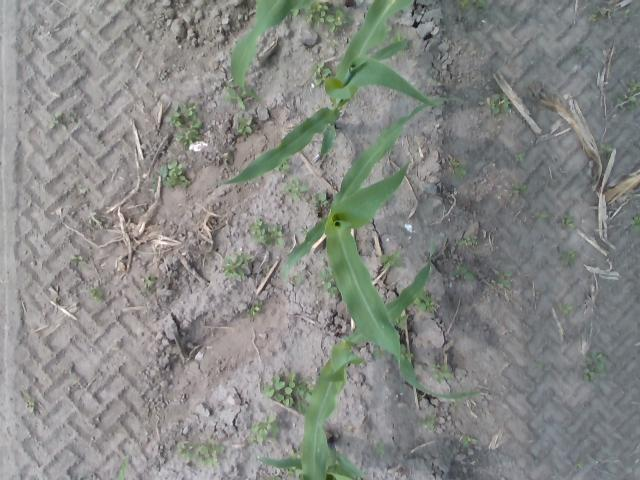Maize: (284, 96, 484, 400), (212, 1, 442, 186), (300, 232, 434, 480), (232, 0, 298, 102), (256, 431, 365, 480)
Weeds: (262, 372, 296, 406), (610, 78, 640, 112), (247, 412, 279, 443), (174, 120, 203, 150), (194, 439, 225, 467), (309, 62, 332, 86), (582, 350, 606, 372), (486, 94, 511, 115), (283, 180, 308, 201), (222, 87, 245, 109), (222, 256, 244, 278), (164, 105, 184, 126), (382, 250, 404, 269), (306, 5, 328, 24), (176, 440, 193, 464), (432, 364, 452, 384), (414, 292, 434, 312), (299, 375, 310, 410), (326, 9, 342, 33), (49, 111, 67, 132), (236, 116, 253, 136), (162, 176, 190, 188), (117, 455, 130, 480), (234, 248, 253, 265), (268, 225, 284, 245), (416, 413, 435, 428), (453, 268, 474, 280), (250, 220, 266, 235), (184, 103, 198, 120), (499, 270, 512, 288), (294, 384, 307, 401), (322, 268, 332, 290), (561, 249, 573, 266), (90, 286, 104, 300), (168, 161, 182, 175), (401, 344, 413, 360), (311, 194, 326, 206), (89, 212, 102, 225), (142, 276, 156, 288), (26, 397, 37, 412), (328, 286, 338, 302), (254, 235, 269, 245), (534, 211, 546, 223), (584, 368, 596, 380), (510, 184, 520, 198), (474, 0, 488, 10), (562, 214, 573, 226), (292, 274, 303, 286), (631, 216, 640, 230), (454, 166, 466, 176), (224, 150, 234, 162), (560, 303, 572, 313), (160, 164, 168, 178), (600, 144, 612, 153), (70, 255, 82, 264), (297, 226, 309, 235), (464, 435, 476, 444), (398, 315, 407, 327), (458, 238, 471, 246), (376, 444, 386, 454), (250, 305, 258, 317), (67, 114, 75, 126), (569, 250, 578, 260), (152, 177, 158, 192), (458, 0, 469, 8), (390, 34, 404, 40), (281, 162, 291, 170), (373, 346, 379, 358), (450, 160, 460, 167), (432, 364, 441, 371), (516, 184, 526, 190), (258, 301, 264, 310), (534, 362, 543, 368), (589, 13, 596, 20), (516, 154, 524, 160), (81, 188, 89, 194), (595, 374, 607, 378), (577, 45, 584, 51), (471, 236, 476, 242), (576, 464, 580, 468)
